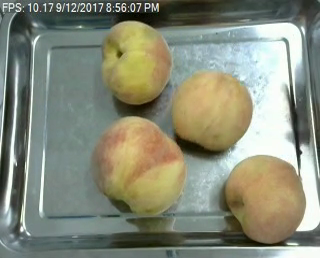Peach: (91, 115, 186, 215), (224, 154, 306, 244), (171, 70, 252, 150), (100, 20, 172, 104)
